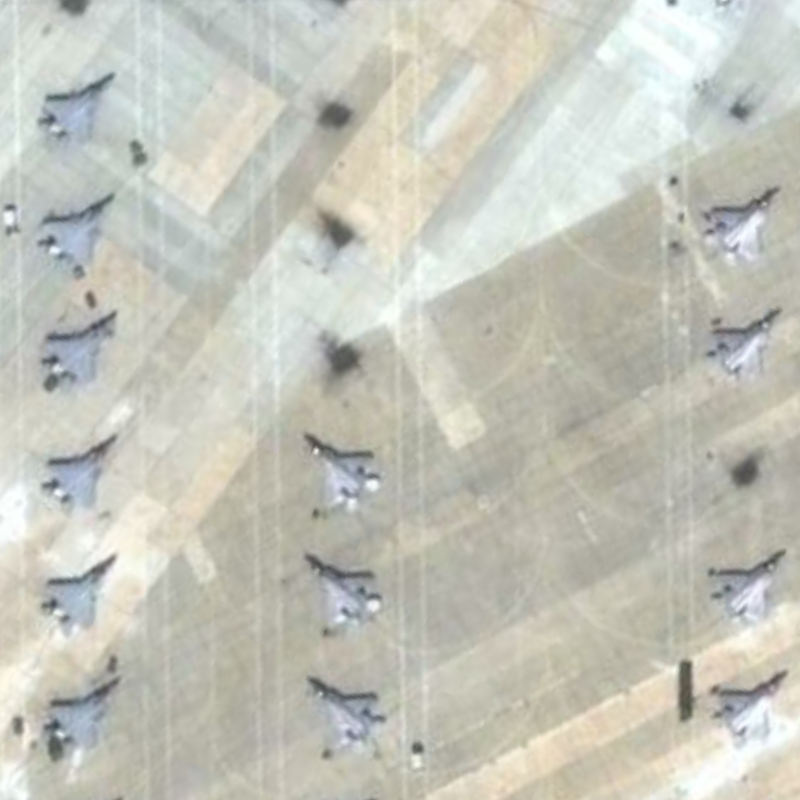A13: (34, 550, 122, 641), (37, 428, 122, 518), (37, 674, 124, 758), (40, 190, 115, 276), (38, 307, 119, 386), (41, 69, 117, 148)
A15: (296, 423, 387, 512), (703, 546, 791, 635), (708, 667, 794, 750), (305, 670, 389, 754), (300, 548, 386, 628), (704, 184, 783, 271), (706, 304, 788, 386)
